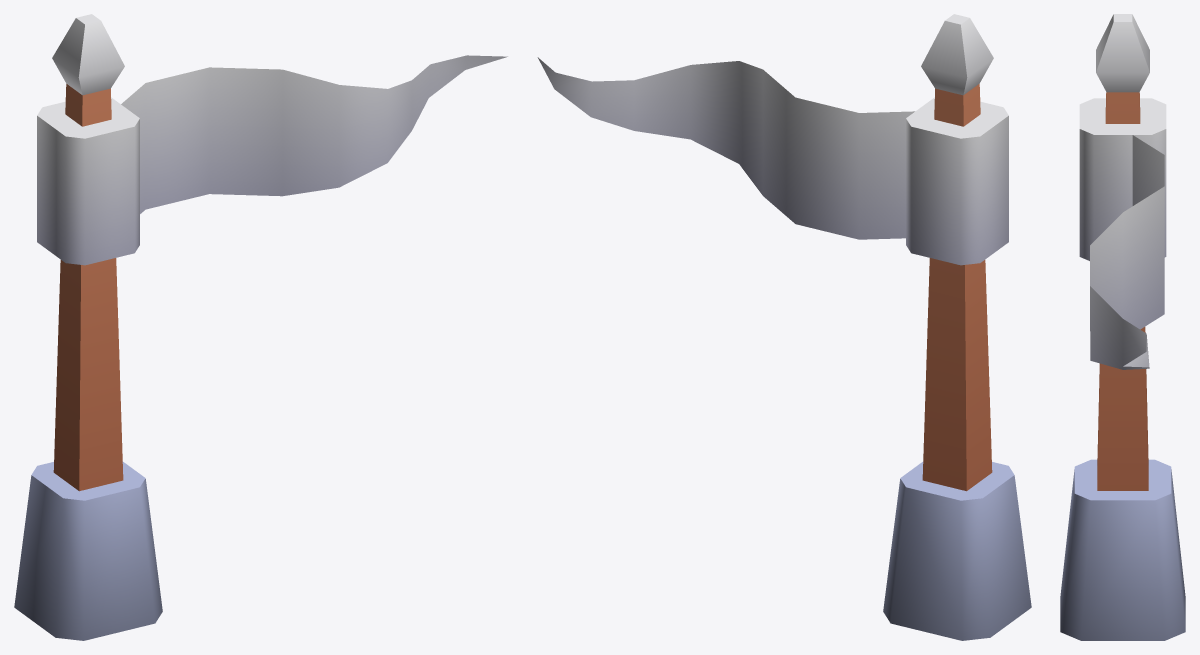
The model's file is flag-pennant.glb.
3 views of the same model, side by side, from view 1: azimuth 30°, elevation 25°; view 2: azimuth 150°, elevation 25°; view 3: azimuth 270°, elevation 25° (orthographic).
Parts seen in each view (by area): view 1: flag-pennant; view 2: flag-pennant; view 3: flag-pennant.
Boxes of the visible parts, left/top/right/bottom form: flag-pennant: left=14, top=14, right=507, bottom=640; flag-pennant: left=537, top=14, right=1031, bottom=640; flag-pennant: left=1060, top=14, right=1185, bottom=640.
Bounding box in the file's own units: 1.76 × 2.1 × 0.3989.
1 material, 1 textured.
